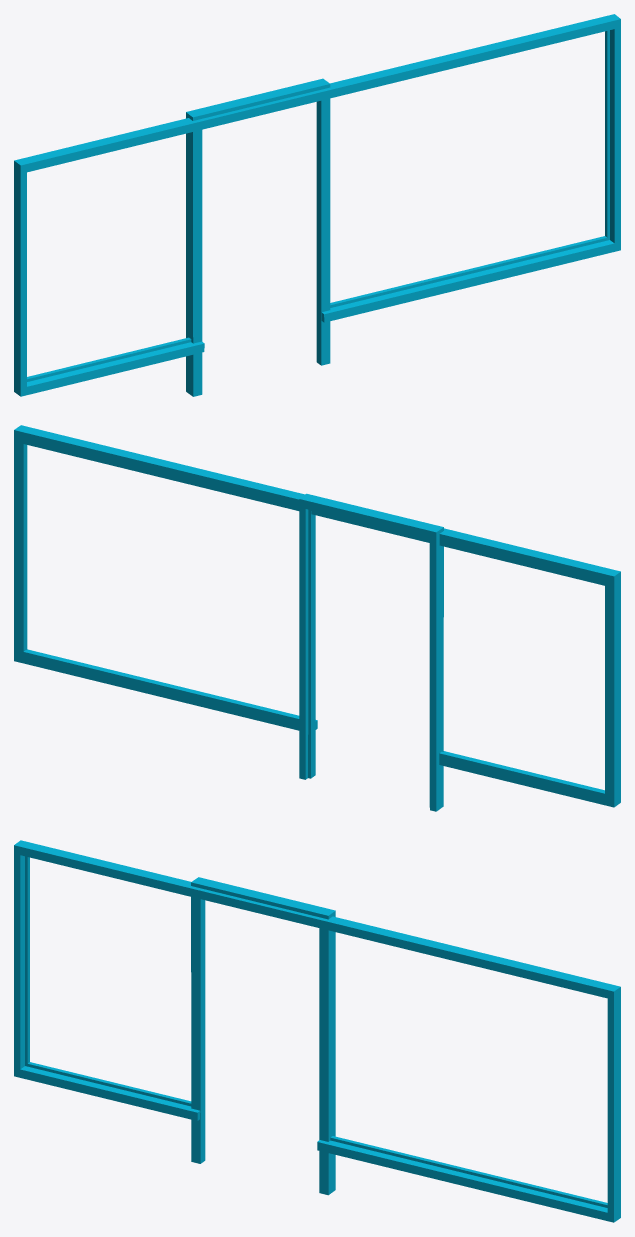
Rendered from W_02B_Door_03.fbx.
3 views of the same model, one above another, from view 1: azimuth 30°, elevation 25°; view 2: azimuth 150°, elevation 25°; view 3: azimuth 330°, elevation 25° (orthographic).
Visible parts, largest first — view 1: W_02B_Door_03; view 2: W_02B_Door_03; view 3: W_02B_Door_03.
Part boxes in pixels (x1=…): W_02B_Door_03: x1=14, y1=14, x2=620, y2=396; W_02B_Door_03: x1=14, y1=425, x2=620, y2=811; W_02B_Door_03: x1=14, y1=840, x2=620, y2=1222.
Size of the model in its own units: 558 by 248 by 15.74.
